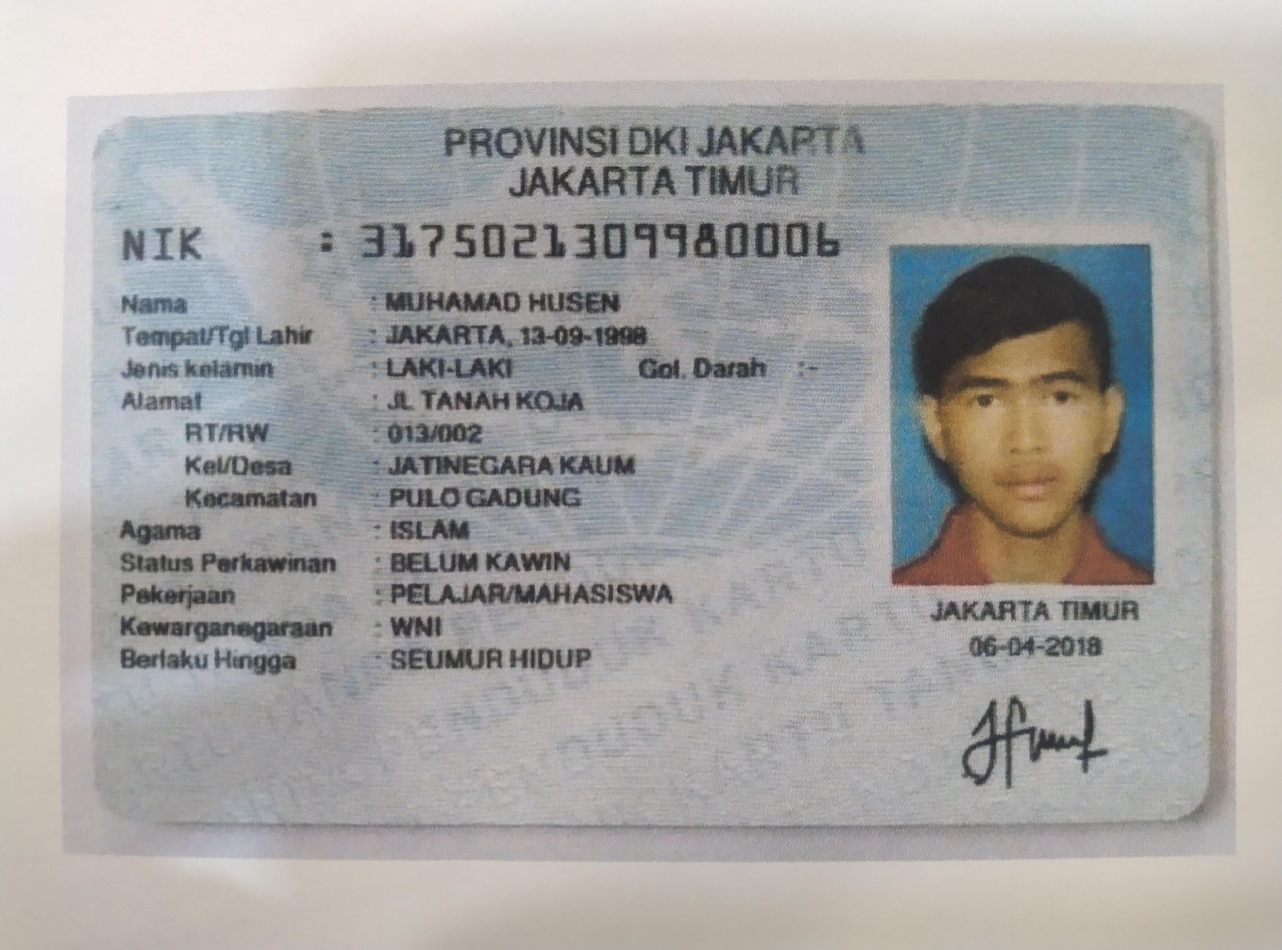ID-card: (87, 99, 1209, 812)
